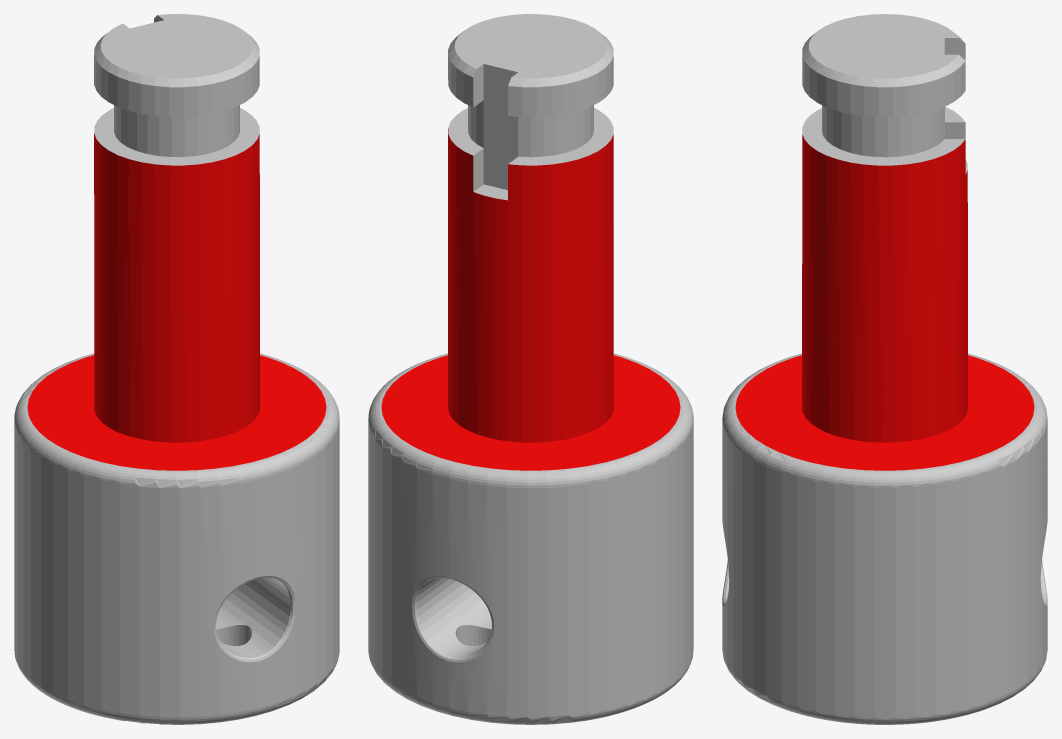
Rendered from 2_stp_3_4.obj.
3 views of the same model, side by side, from view 1: azimuth 30°, elevation 25°; view 2: azimuth 150°, elevation 25°; view 3: azimuth 270°, elevation 25° (orthographic).
Parts seen in each view (by area): view 1: Object1; view 2: Object1; view 3: Object1.
Part boxes in pixels (x1,y1,x2,y2): Object1: [14, 14, 339, 724]; Object1: [368, 14, 693, 724]; Object1: [722, 14, 1047, 724].
Bounding box in the file's own units: 48.9 × 102 × 49.
